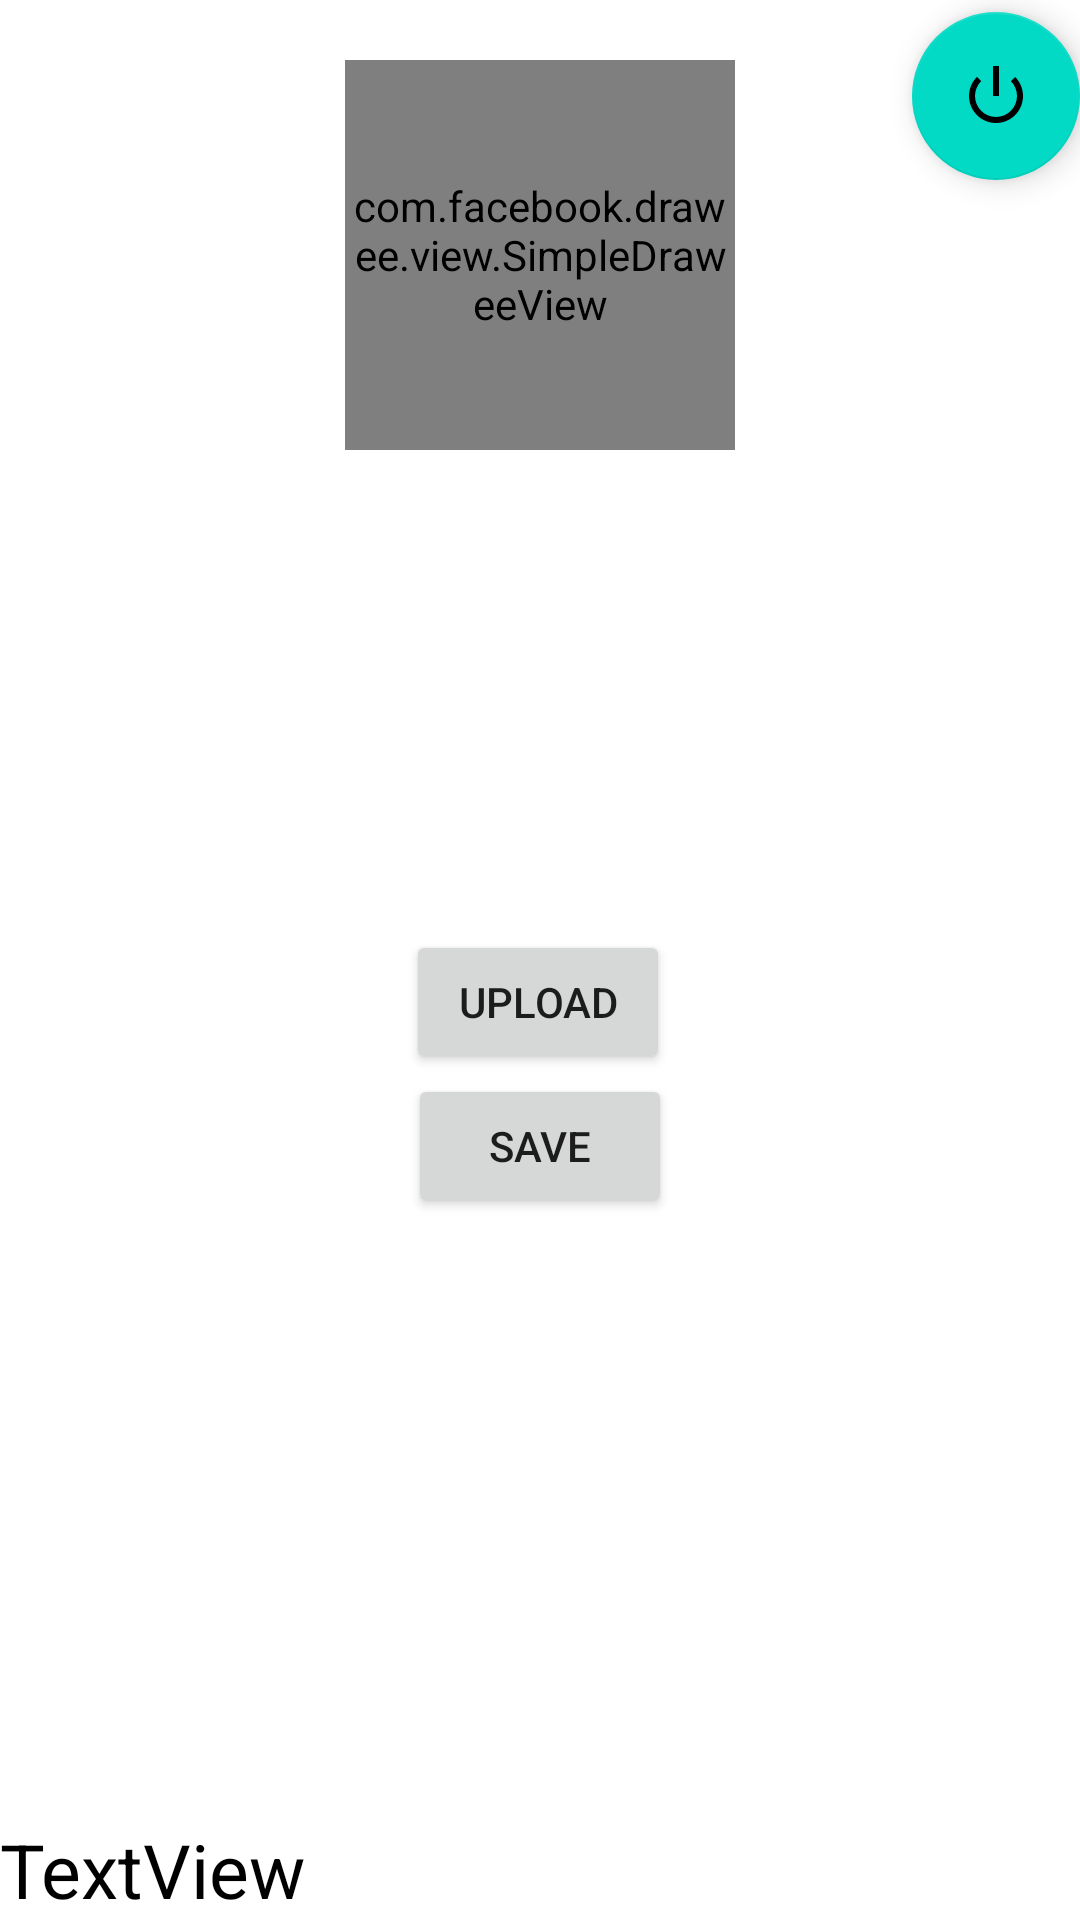

Point at icon controls on the screen. Image size 1080×1920, points as [x,y].
lock power off: [996,96]
